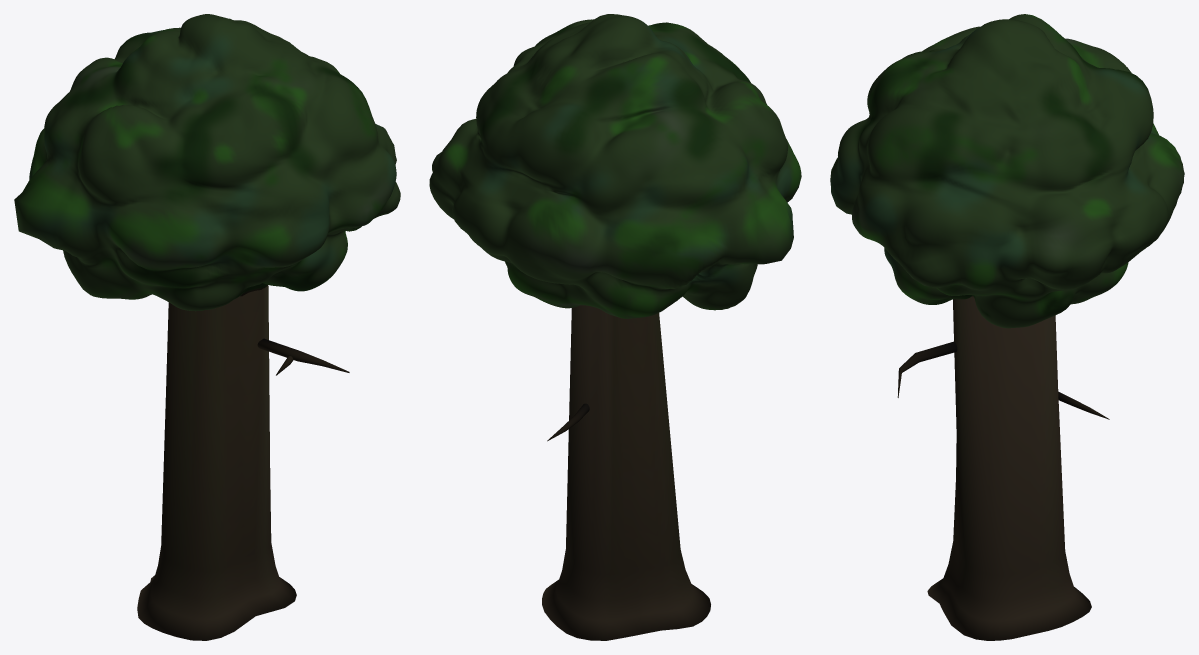
The model's file is BihTree.glb.
The picture shows the model from 3 angles, left to right: view 1: azimuth 30°, elevation 25°; view 2: azimuth 150°, elevation 25°; view 3: azimuth 270°, elevation 25°; orthographic projection.
Parts seen in each view (by area): view 1: Quad Sphere; view 2: Quad Sphere; view 3: Quad Sphere.
Boxes of the visible parts, <box> form: Quad Sphere: <box>14,14,400,640</box>; Quad Sphere: <box>429,14,801,640</box>; Quad Sphere: <box>830,14,1184,640</box>.
Bounding box in the file's own units: 4.96 × 8.12 × 4.45.
